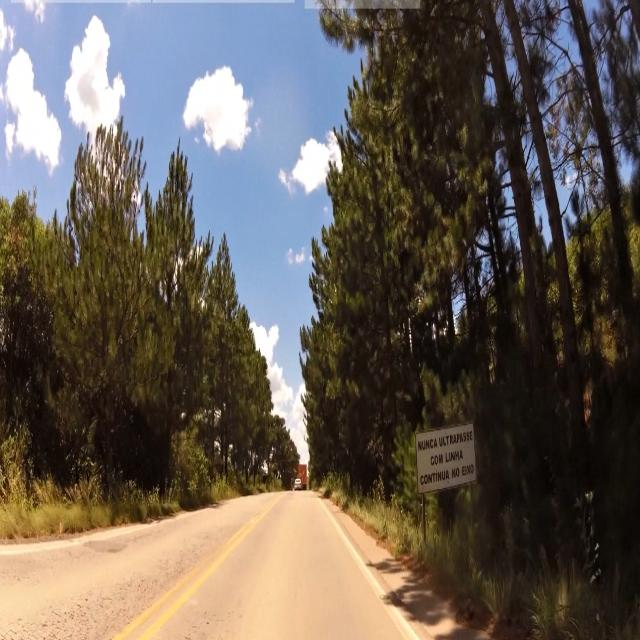E-5: (414, 424, 480, 488)
